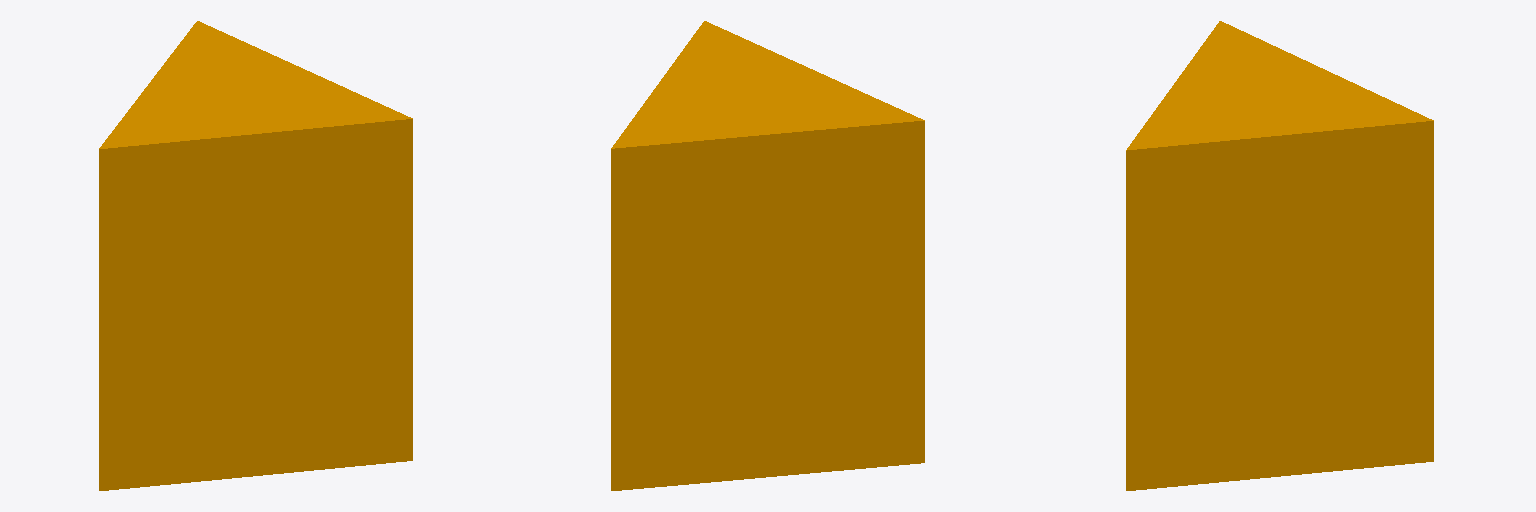
The robot description file, URDF, robot "industreal_round_peg_76mm":
<?xml version="1.0"?>
<robot name="industreal_round_peg_76mm">
    <link name="industreal_round_peg_76mm">
        <visual>
            <geometry>
                <mesh filename="../mesh/industreal_pegs/1_5_in_Triangle_Hard_6.obj"/>
            </geometry>
        </visual>
        <collision>
            <geometry>
                <mesh filename="../mesh/industreal_pegs/1_5_in_Triangle_Hard_6.obj"/>
            </geometry>
            <sdf resolution="256"/>
        </collision>
    </link>
</robot>

--- What the picture shows (computed from the rendered views, not written in the file) ---
Views: 3 orthographic renders of the robot side by side, from view 1: azimuth 30°, elevation 25°; view 2: azimuth 150°, elevation 25°; view 3: azimuth 270°, elevation 25°.
Model industreal_round_peg_76mm with 1 links and 0 joints (none), rooted at industreal_round_peg_76mm, posed every joint at zero.
Visible links, largest first — view 1: industreal_round_peg_76mm; view 2: industreal_round_peg_76mm; view 3: industreal_round_peg_76mm.
Link boxes in pixels (left/top/right/bottom): industreal_round_peg_76mm: left=99, top=21, right=412, bottom=490; industreal_round_peg_76mm: left=611, top=21, right=924, bottom=490; industreal_round_peg_76mm: left=1126, top=21, right=1433, bottom=490.
Bounding box of the posed robot: 0.0624 × 0.0625 × 0.0762 m (x, y, z).
1 mesh visuals loaded from 1 distinct referenced files (1 OBJ).